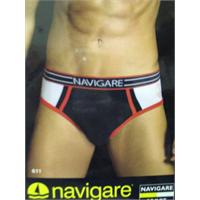mutande: (39, 65, 162, 147)
